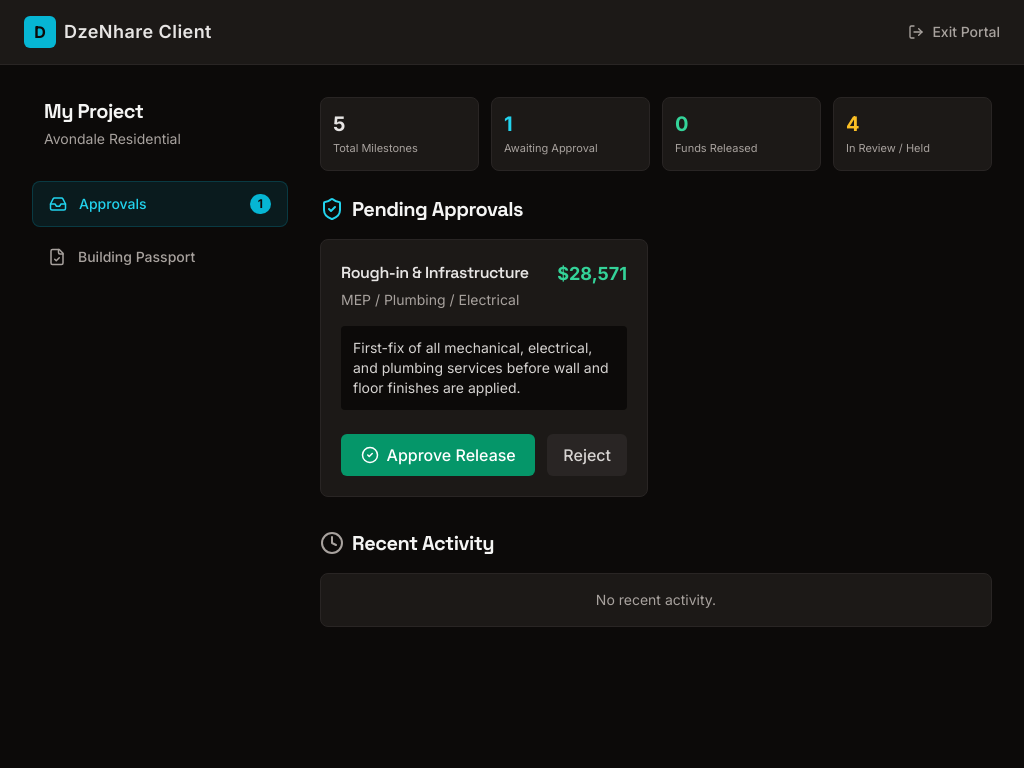
Test: ClientPortal — real milestone data › rejects a pending milestone through the real milestone engine
Expected: the heading "Rough-in & Infrastructure" is shown, [341,260,529,286]
Click the button "Reject". click: (587, 455)
box: [547,434,627,476]
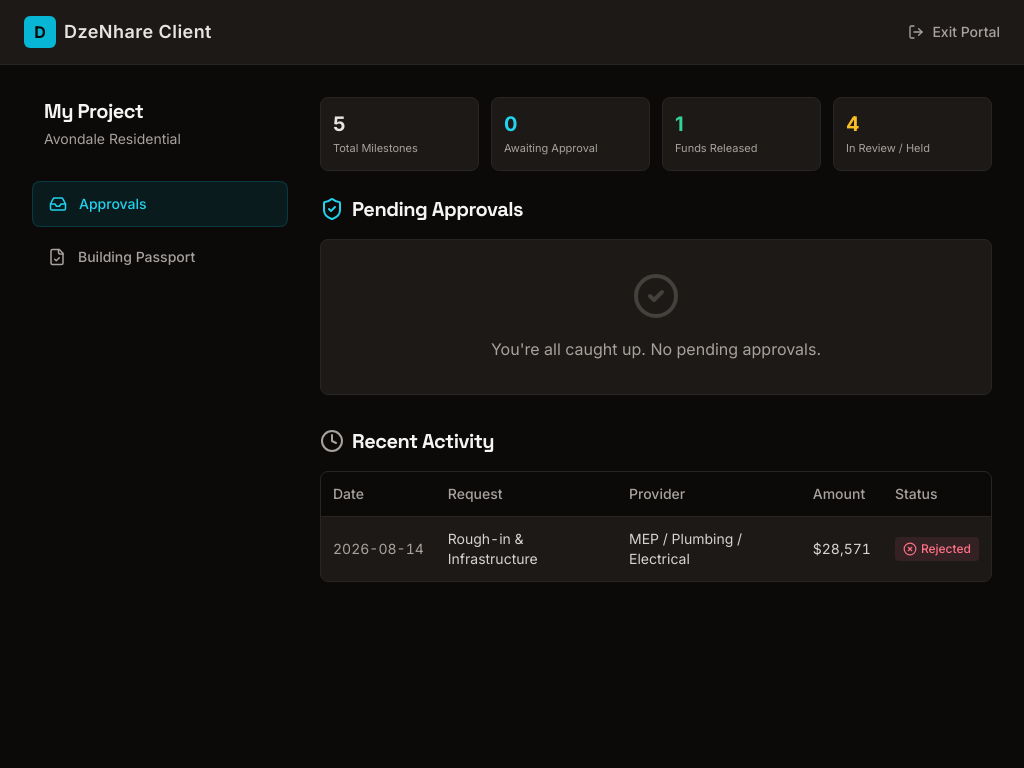
Expected: the text "Rejected" is shown, [895,537,979,561]
